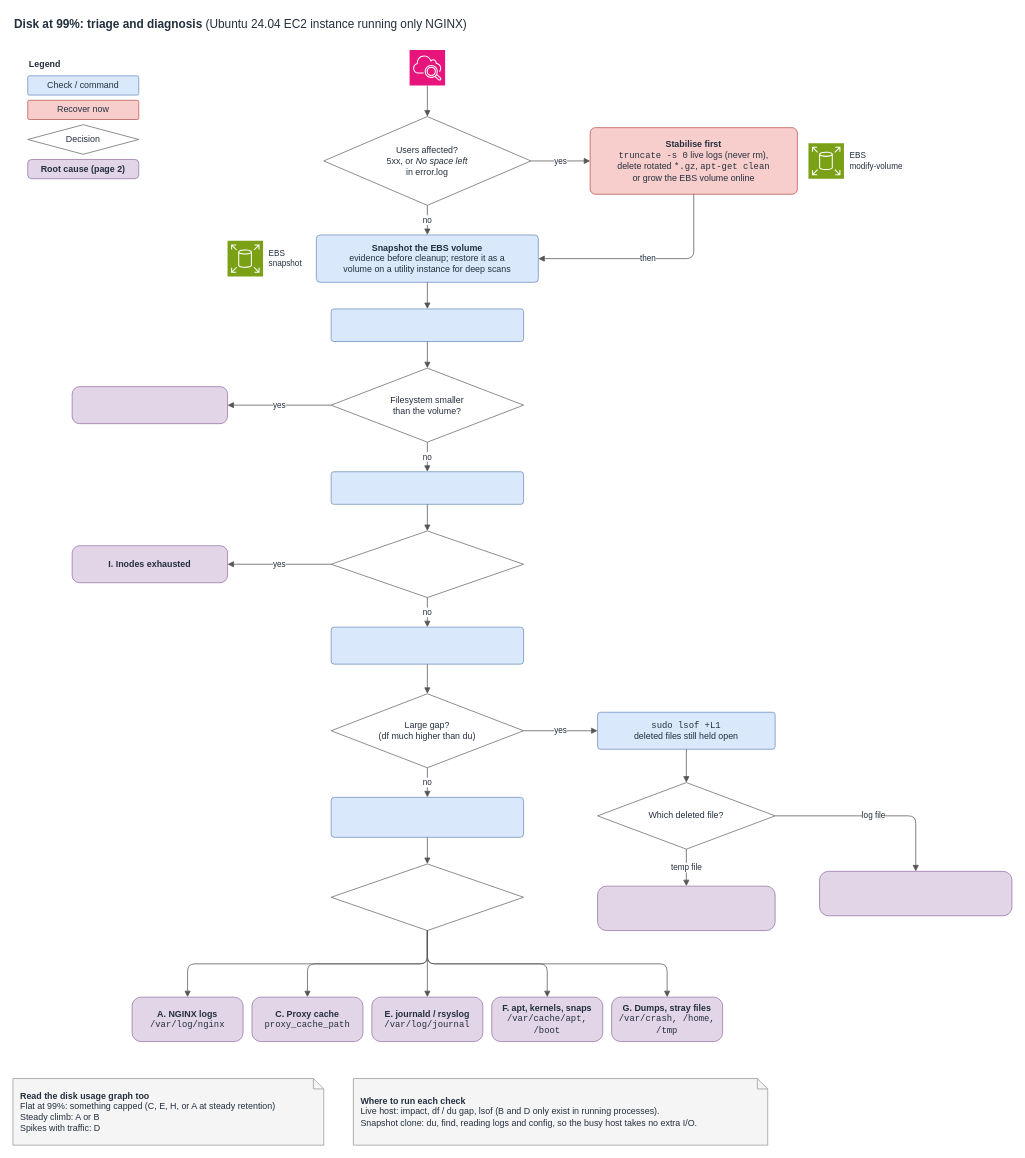
Some shapes in this 1025 by 1158 pixel diagram are drawn without their labels. Here are the shapes that lost their labels. From the top down, the centre of each, then its label:
At point (427, 67): "CloudWatch alarm disk_used_percent >= 99% on /".
At point (427, 325): "df -hT / and lsblk".
At point (149, 405): "H. Filesystem not grown".
At point (427, 487): "df -i /".
At point (427, 564): "Inodes at 100%?".
At point (427, 645): "Compare df used with du -sx / (live host)".
At point (427, 817): "du -xh --max-depth=2 (on the snapshot clone)".
At point (427, 897): "Largest directory?".
At point (686, 908): "D. Proxy / body temp files /var/lib/nginx/* (deleted)".
At point (915, 893): "B. Deleted log held open /var/log/nginx/*.log (deleted)".
